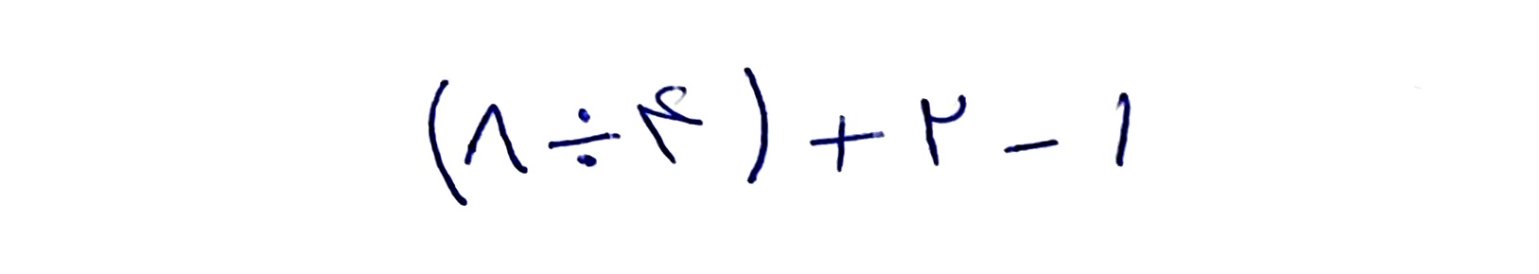character: (635, 82, 704, 164), (429, 76, 470, 207), (464, 100, 531, 174), (546, 107, 623, 169), (807, 115, 886, 173), (921, 92, 970, 168), (743, 66, 766, 186), (1113, 90, 1133, 168), (1003, 136, 1062, 158)
